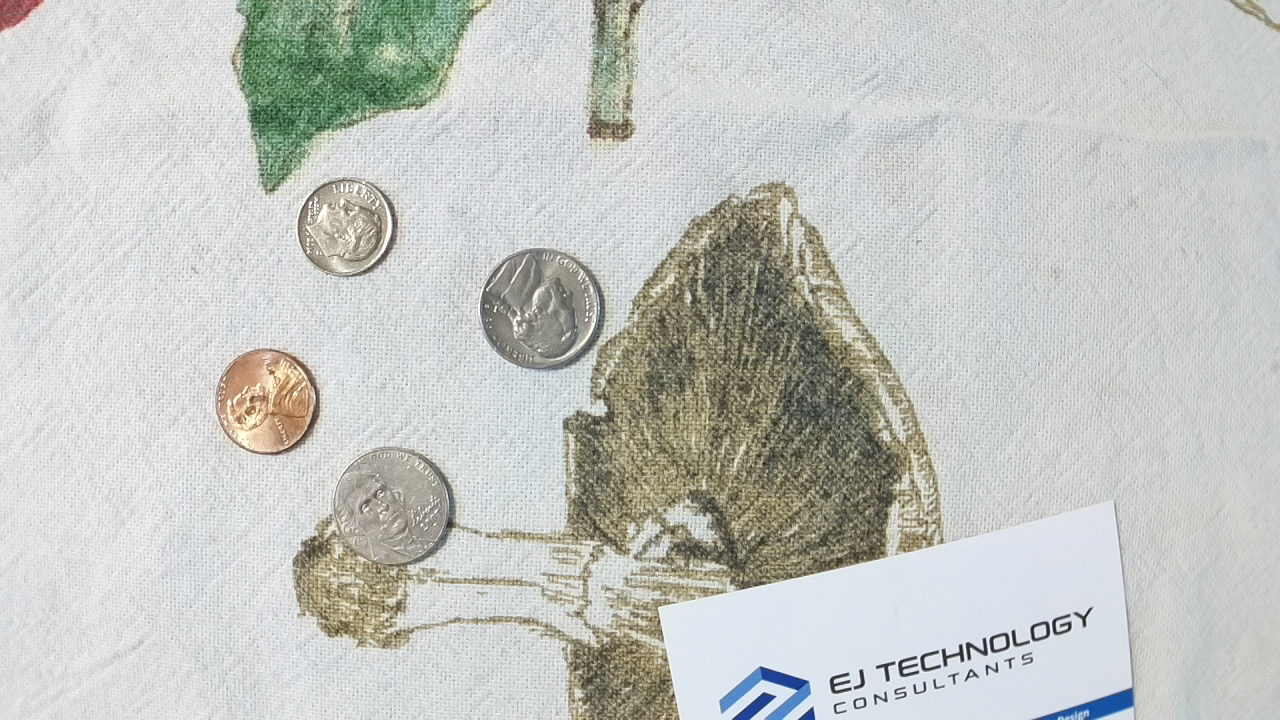dime: (292, 175, 400, 279)
nickel: (322, 444, 456, 568), (476, 246, 608, 370)
penny: (210, 347, 322, 457)
